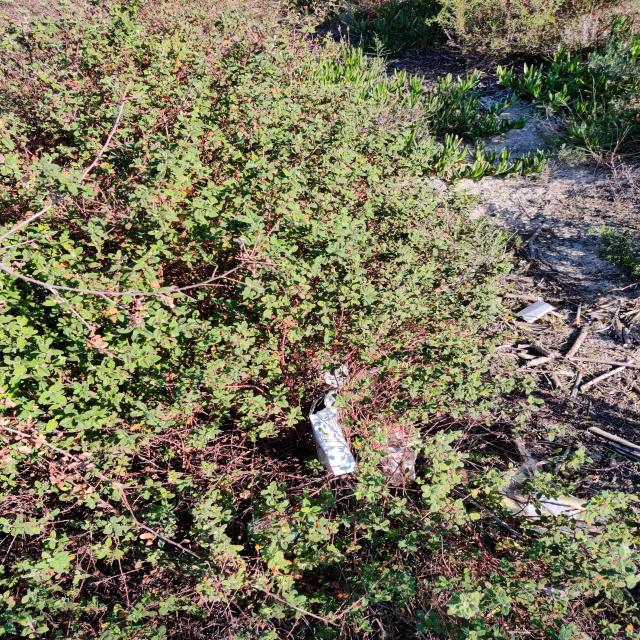litter: (283, 344, 370, 483), (362, 415, 436, 497)
